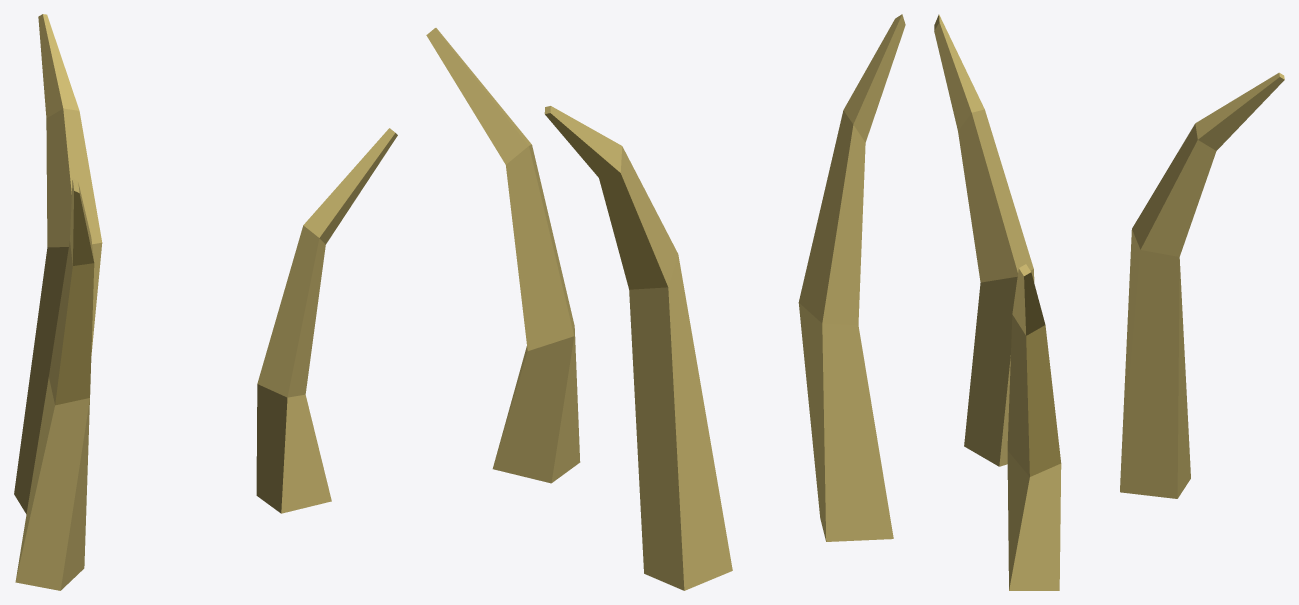
The model's file is GrassWinter2_Alt2.fbx.
The picture shows the model from 3 angles, left to right: view 1: azimuth 30°, elevation 25°; view 2: azimuth 150°, elevation 25°; view 3: azimuth 270°, elevation 25°; orthographic projection. The views are drawn at different scales.
Parts seen in each view (by area): view 1: GrassWinter2_Alt2; view 2: GrassWinter2_Alt2; view 3: GrassWinter2_Alt2.
Part boxes in pixels (x1,y1,x2,y2): GrassWinter2_Alt2: (14,14,397,590); GrassWinter2_Alt2: (426,14,905,590); GrassWinter2_Alt2: (934,14,1284,590).
Bounding box in the file's own units: 0.3561 × 0.3746 × 0.2695.
